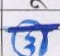i_matra: (32, 21, 47, 54)
